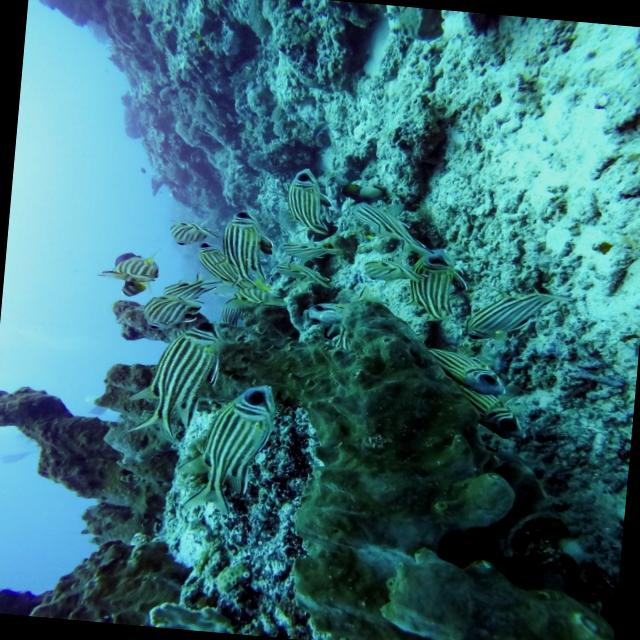Asker Baligi: (171, 376, 278, 520), (128, 312, 242, 439), (457, 282, 552, 349), (279, 154, 342, 246), (395, 245, 461, 324), (215, 206, 280, 283)
